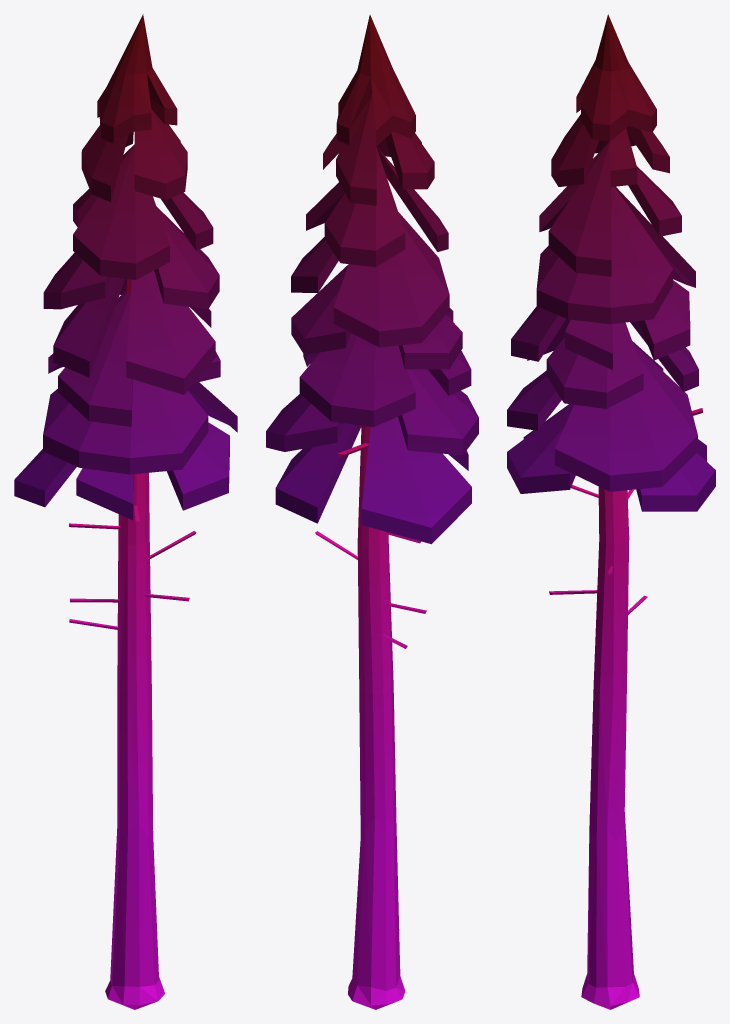
File: synty-tree-polypine-sparse-01.gltf
3 renders of one model, left to right at view 1: azimuth 30°, elevation 25°; view 2: azimuth 150°, elevation 25°; view 3: azimuth 270°, elevation 25°, orthographic.
Visible parts, largest first — view 1: SM_Tree_PolyPine_Sparse_01; view 2: SM_Tree_PolyPine_Sparse_01; view 3: SM_Tree_PolyPine_Sparse_01.
Boxes of the visible parts, bbox=[...] form: SM_Tree_PolyPine_Sparse_01: bbox=[14, 14, 237, 1009]; SM_Tree_PolyPine_Sparse_01: bbox=[266, 15, 478, 1009]; SM_Tree_PolyPine_Sparse_01: bbox=[507, 14, 715, 1009].
Size of the model in its own units: 1.56 by 7.93 by 1.5.
